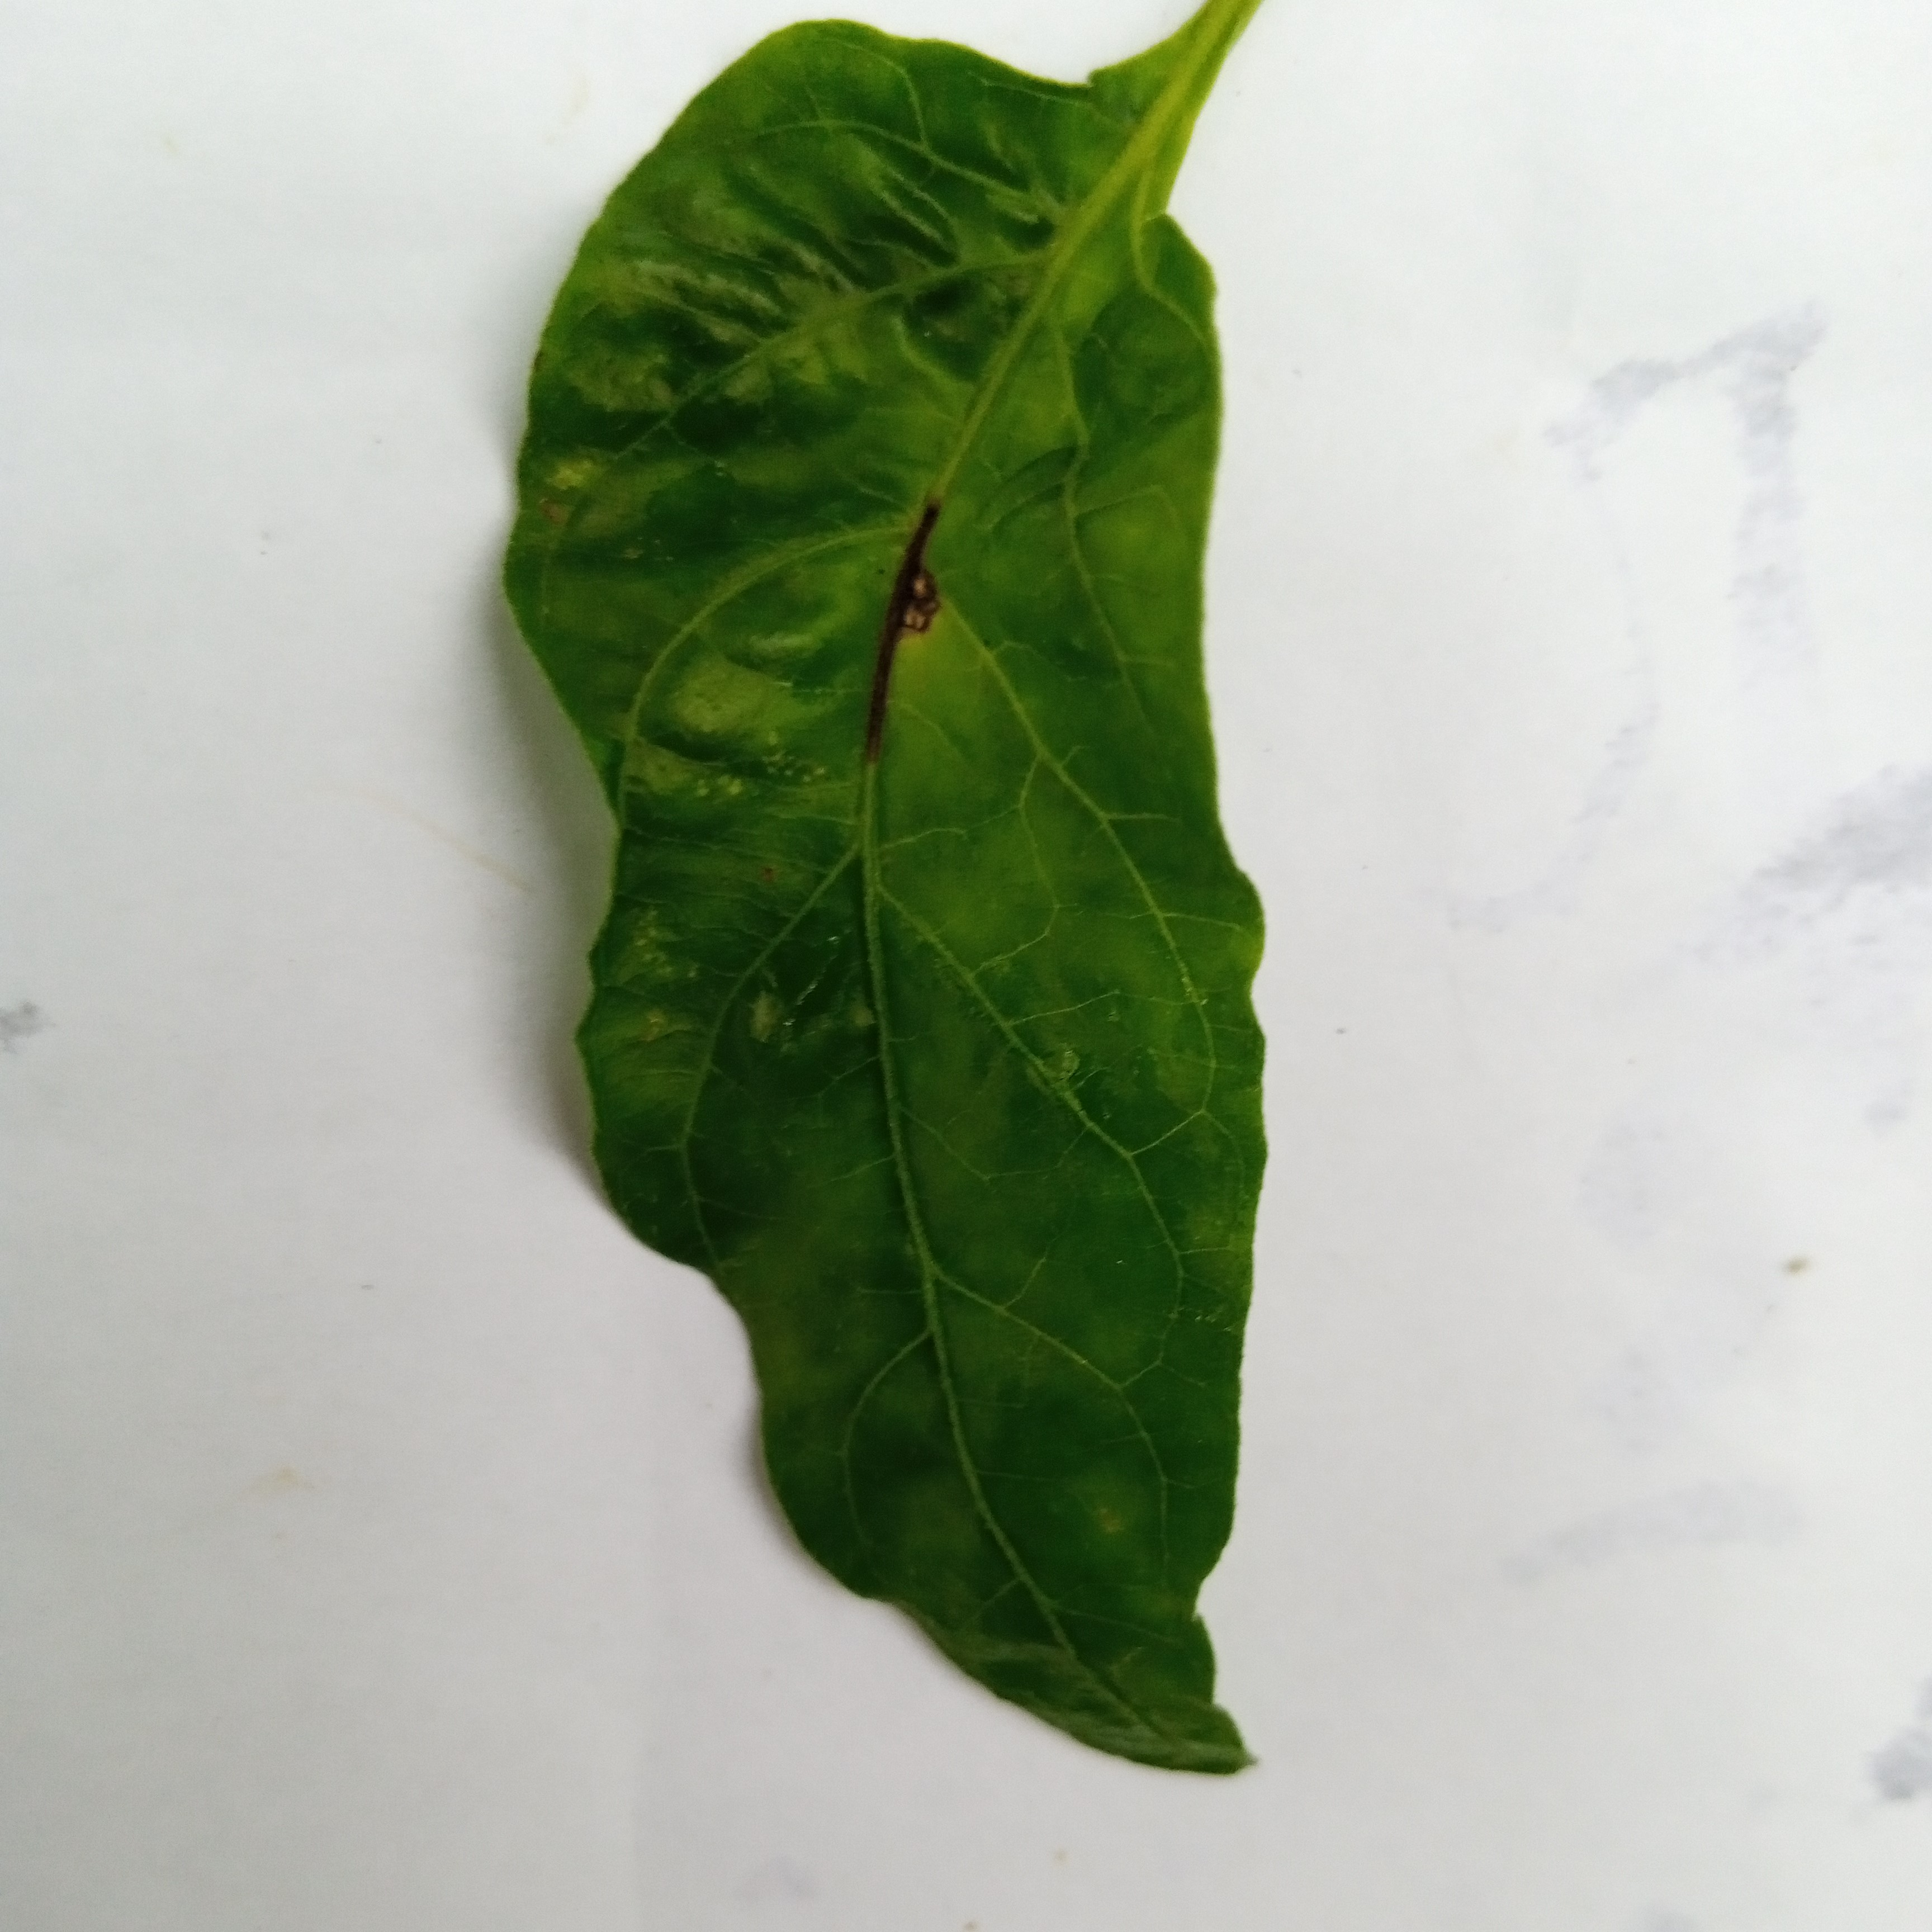Leaf: (380, 12, 1500, 1932)
